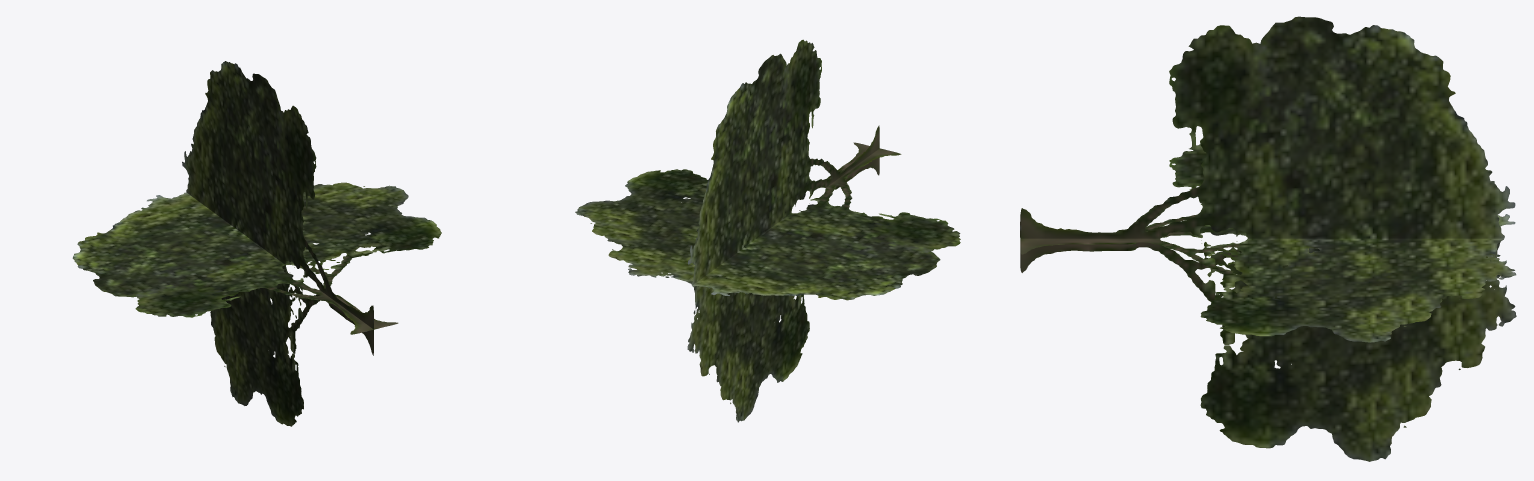
File: LeafTree.fbx
The picture shows the model from 3 angles, left to right: view 1: azimuth 30°, elevation 25°; view 2: azimuth 150°, elevation 25°; view 3: azimuth 270°, elevation 25°; orthographic projection. The views are drawn at different scales.
Visible parts, largest first — view 1: LeafTree; view 2: LeafTree; view 3: LeafTree.
Part boxes in pixels (box(x1,y1,x2,y2)): LeafTree: box(72, 61, 441, 426); LeafTree: box(575, 39, 960, 422); LeafTree: box(1020, 16, 1516, 461).
Bounding box in the file's own units: 558 × 558 × 558.
